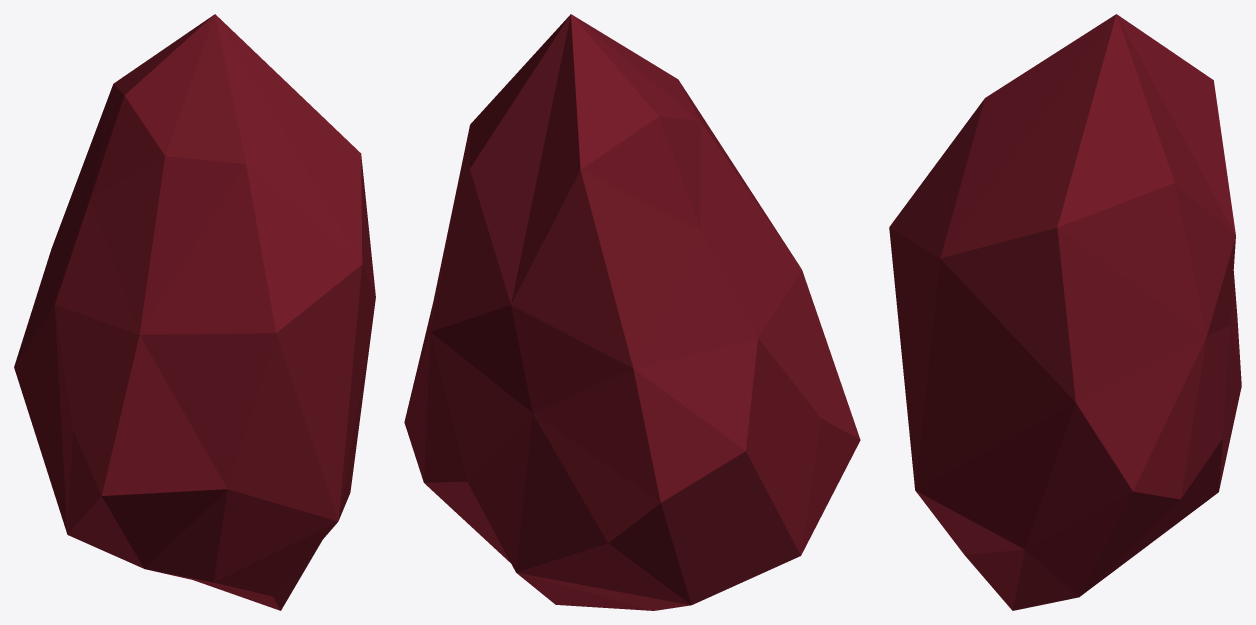
File: PhilosopherStone.glb
3 renders of one model, left to right at view 1: azimuth 30°, elevation 25°; view 2: azimuth 150°, elevation 25°; view 3: azimuth 270°, elevation 25°, orthographic. The views are drawn at different scales.
Visible parts, largest first — view 1: PhilosopherStone; view 2: PhilosopherStone; view 3: PhilosopherStone.
Part boxes in pixels (box(x1,y1,x2,y2)): PhilosopherStone: box(14, 14, 375, 610); PhilosopherStone: box(404, 14, 860, 610); PhilosopherStone: box(889, 14, 1241, 610).
Bounding box in the file's own units: 0.4916 × 0.8126 × 0.441.
